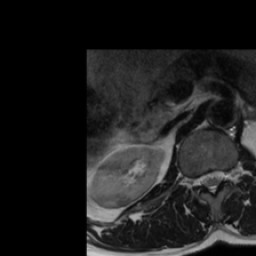CCS_normal: (207, 161, 215, 200)
LFS_normal: (223, 160, 231, 190)
LLS_normal: (215, 162, 223, 190)
RFS_normal: (191, 168, 199, 194)
RLS_normal: (199, 166, 207, 192)
